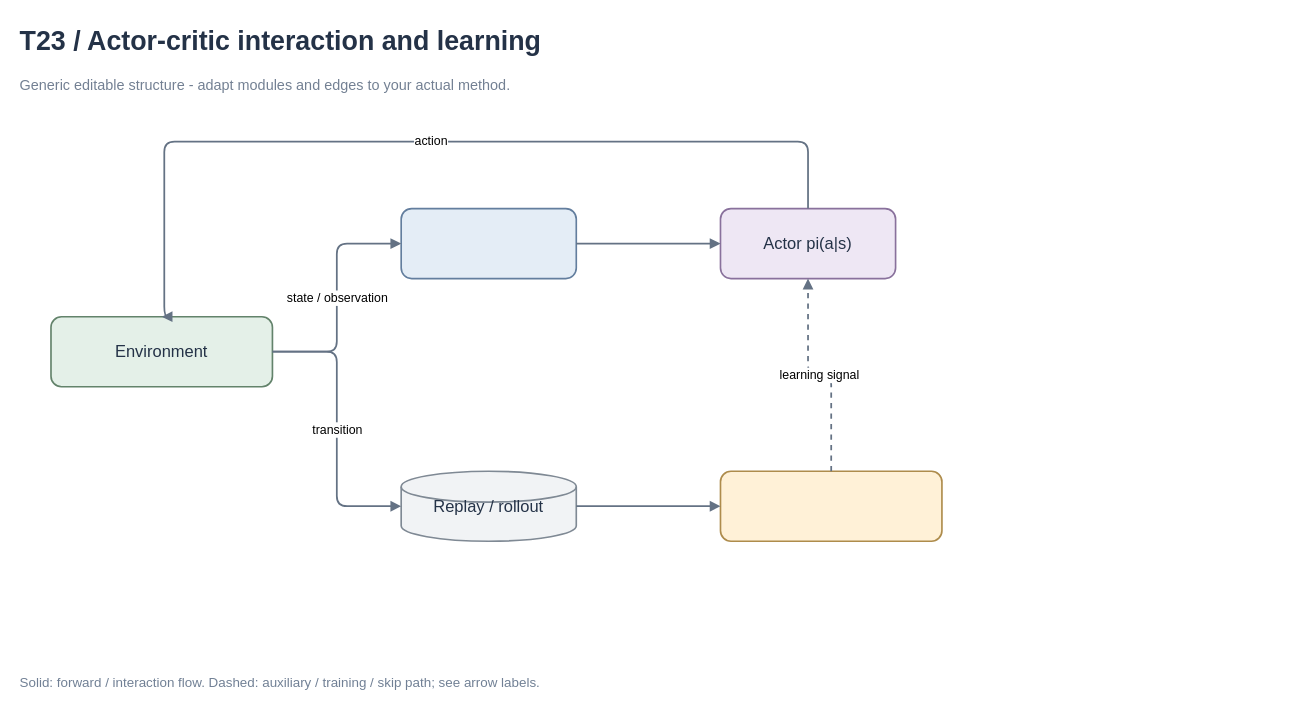
Image size: 1302x716. Some labels were removed from this diagram. Here are the shapes that lost their labels. From the top down, the centre of each, then its label:
the point at 488,243: Observation encoder
the point at 830,506: Critic V(s) / Q(s,a)
